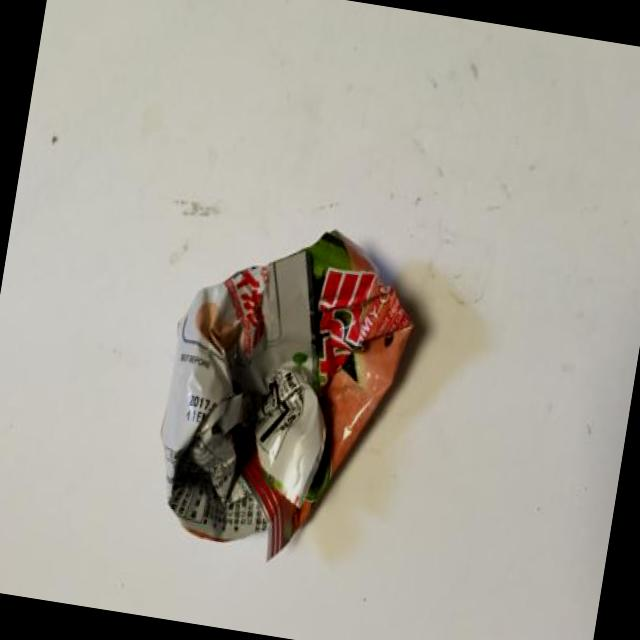Trash: (144, 211, 428, 582)
